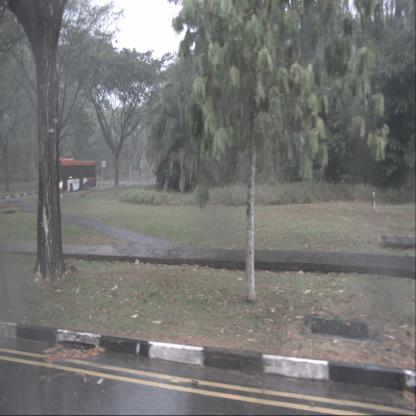vehicle-bus-rigid: (48, 158, 96, 193)
